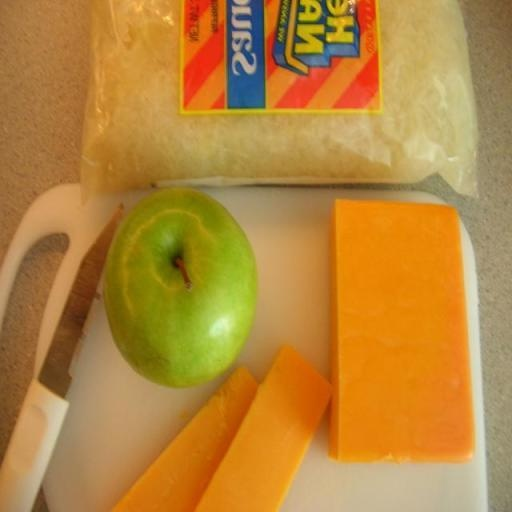fruit: (116, 144, 391, 501)
